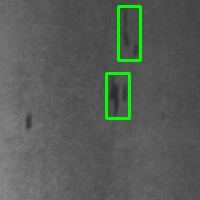inclusion: (118, 6, 140, 60), (106, 73, 129, 118), (22, 107, 34, 133)
